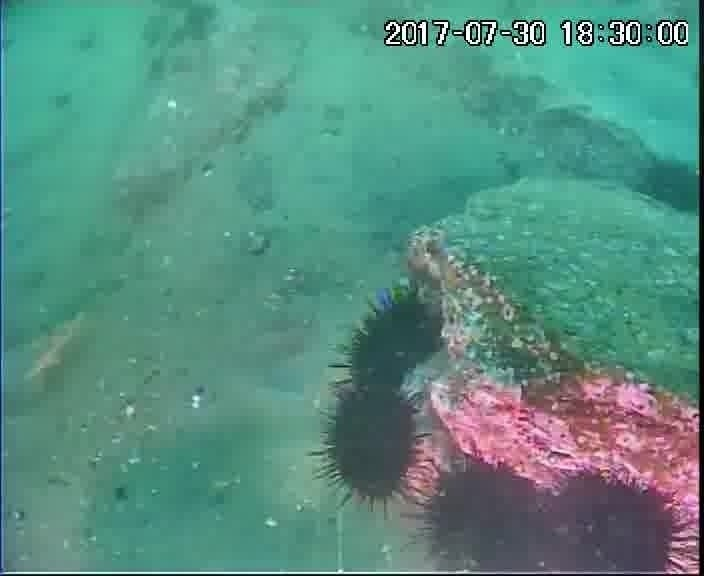echinus: (413, 454, 549, 570), (544, 467, 693, 572), (315, 384, 428, 510), (341, 289, 447, 393), (633, 154, 703, 221)
